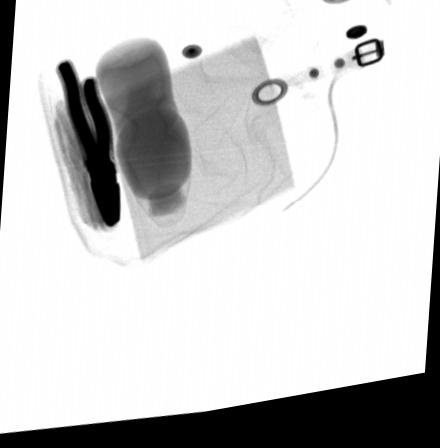Pliers: (56, 59, 121, 231)
